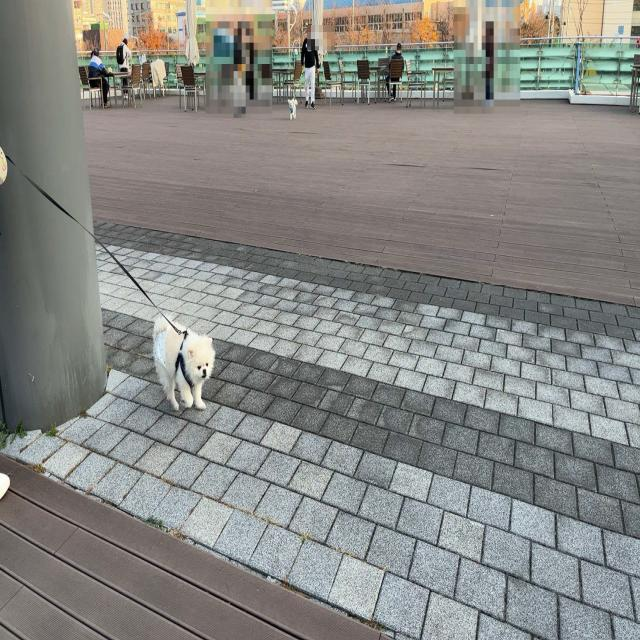Dog: (152, 314, 216, 413)
Leashed_Dog: (287, 62, 309, 122)
